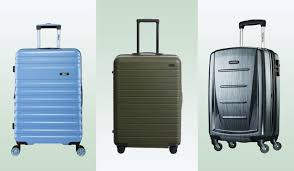suitcase: (9, 24, 86, 158), (208, 18, 283, 153), (112, 18, 184, 153)
